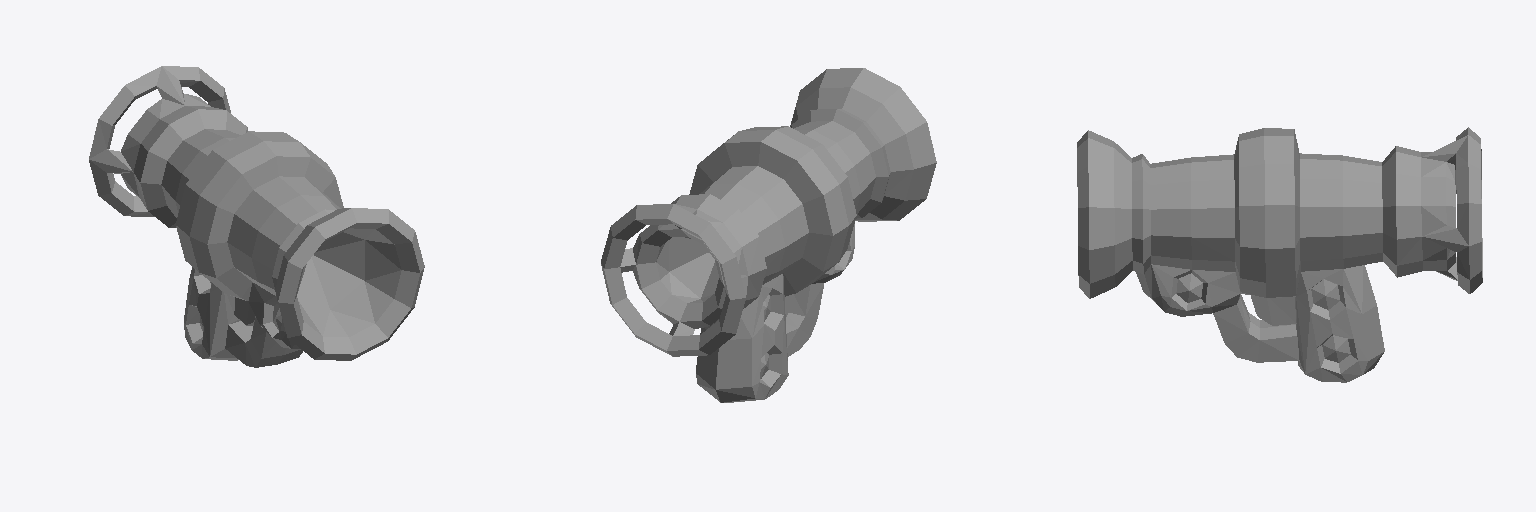
Rendered from Bazooka.obj.
3 views of the same model, side by side, from view 1: azimuth 30°, elevation 25°; view 2: azimuth 150°, elevation 25°; view 3: azimuth 270°, elevation 25° (orthographic).
Parts seen in each view (by area): view 1: Inst3D_RefRep.202; view 2: Inst3D_RefRep.202; view 3: Inst3D_RefRep.202.
Boxes of the visible parts, x1,y1,x2,y2 form: Inst3D_RefRep.202: [89, 66, 424, 367]; Inst3D_RefRep.202: [601, 68, 936, 402]; Inst3D_RefRep.202: [1077, 127, 1482, 382].
Size of the model in its own units: 1.63 by 2.55 by 3.87.